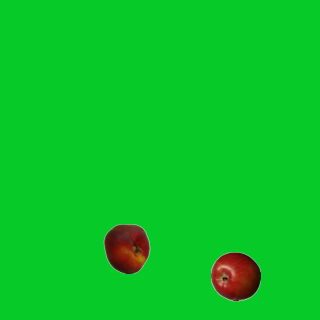Apple Braeburn: (210, 251, 260, 301)
Nectarine Flat: (101, 223, 151, 273)
